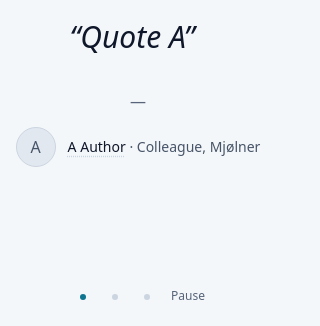
<RecommendationsCarousel /> › dot click advances to that slide and switches mode to manual (Pause hidden)
Expected: the button "Pause" is shown, [171,288,205,304]
Click the button named "Go to slide 2 of 3" at (115, 297), box [103,285,127,309]
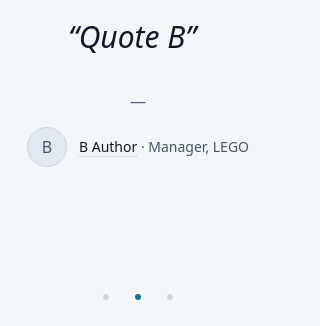
Now the text "“Quote B”" is shown, box [68,16,196,57]
Now the button "Pause" is gone
